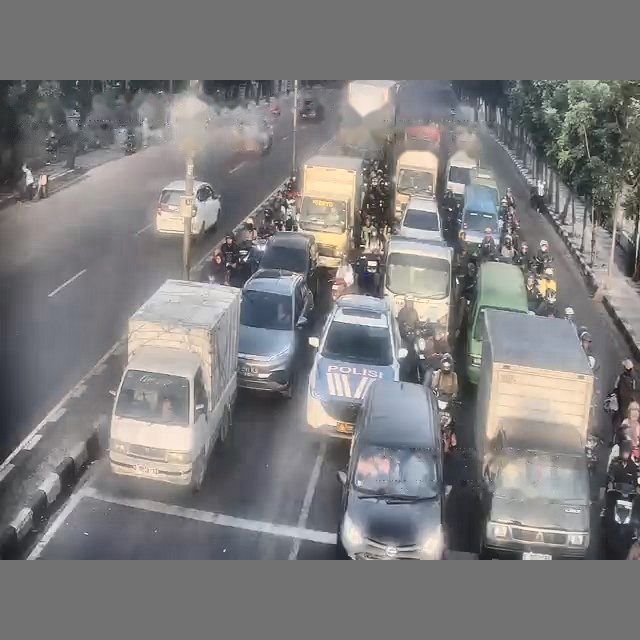Mobil: (337, 380, 445, 559), (306, 294, 407, 438), (238, 270, 313, 397), (260, 231, 317, 299), (399, 196, 443, 241), (155, 180, 185, 234), (231, 122, 272, 155), (298, 97, 323, 120)
Motor: (603, 483, 637, 558), (434, 391, 459, 453)
Truk: (475, 309, 593, 558), (109, 280, 240, 490), (298, 155, 363, 268), (337, 80, 398, 156), (393, 150, 439, 220)
